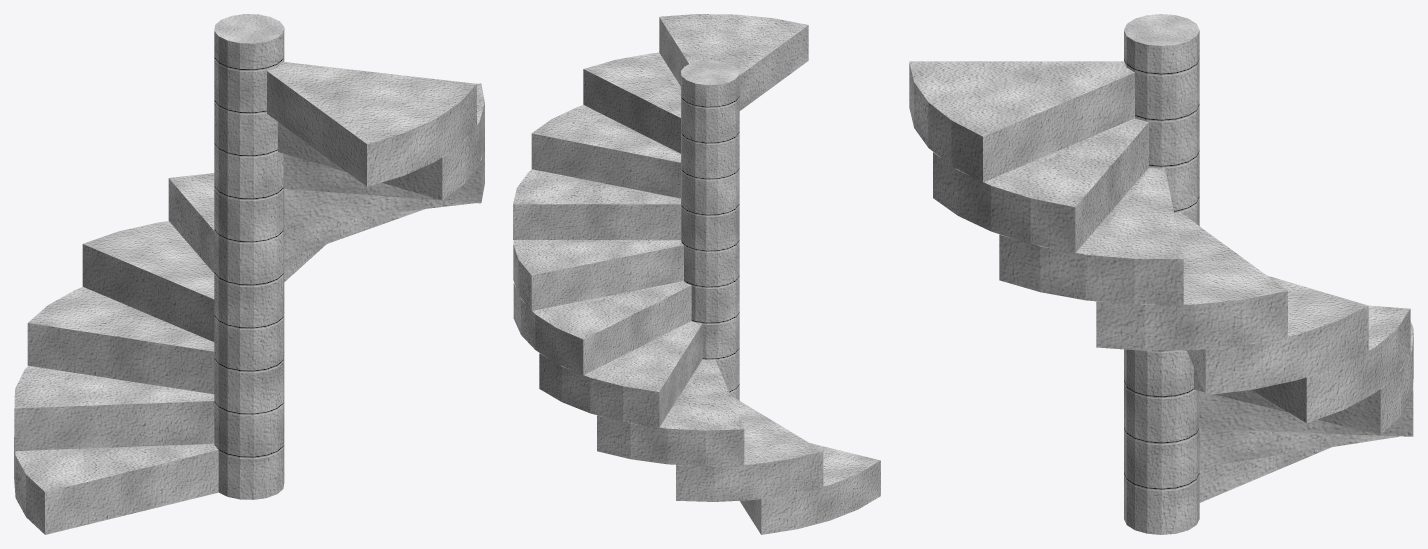
Rendered from gate-up.obj.
The picture shows the model from 3 angles, left to right: view 1: azimuth 30°, elevation 25°; view 2: azimuth 150°, elevation 25°; view 3: azimuth 270°, elevation 25°; orthographic projection. The views are drawn at different scales.
Parts seen in each view (by area): view 1: Cylinder.010; view 2: Cylinder.010; view 3: Cylinder.010.
Boxes of the visible parts, left/top/right/bottom form: Cylinder.010: left=14, top=14, right=484, bottom=534; Cylinder.010: left=513, top=14, right=880, bottom=534; Cylinder.010: left=909, top=14, right=1413, bottom=534.
Bounding box in the file's own units: 4 × 4.27 × 4.
